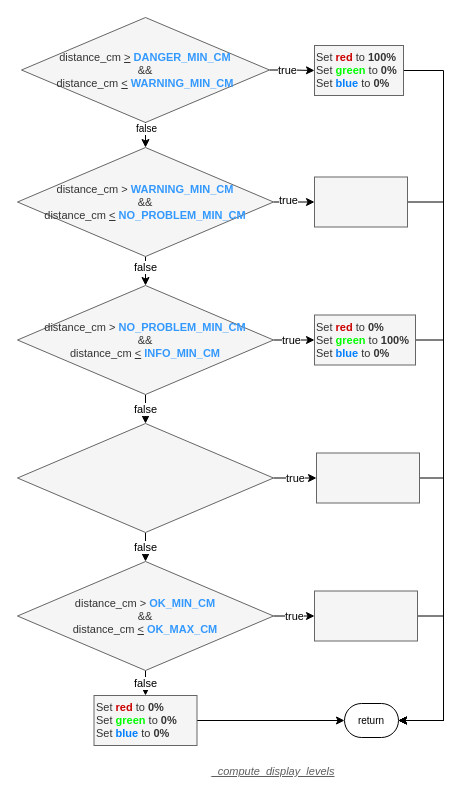
The diagram is 469 pixels wide and 804 high, and some of its shapes have lost their labels. The box of each missing label's shape, as (x1, y1, x2, y2) in pixels:
distance_cm > INFO_MIN_CM && distance_cm < OK_MIN_CM: (16, 422, 274, 532)
Set red to 0% Set green to 0% Set blue to 100%: (314, 590, 418, 641)
Set red to 10% Set green to 35% Set blue to 32%: (316, 452, 420, 503)
Set red to 93% Set green to 93% Set blue to 0%: (314, 176, 408, 227)
